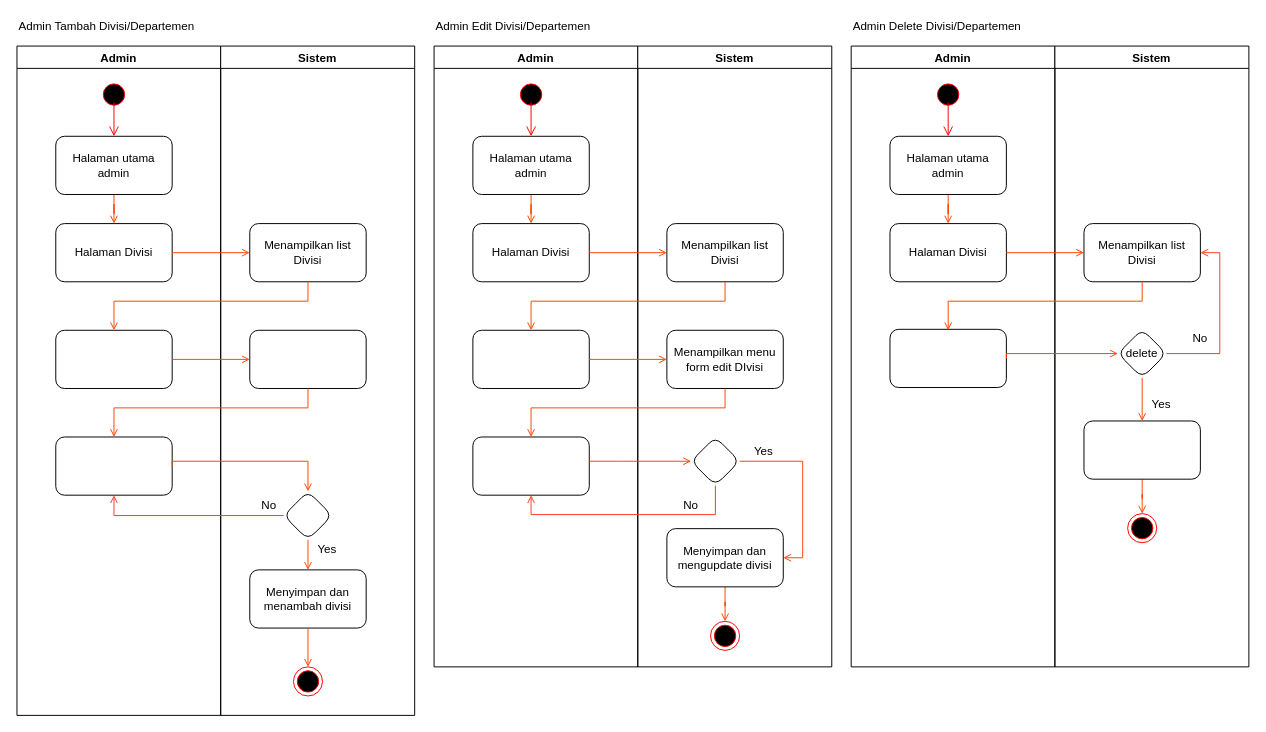
Image size: 1266x732. Some labels were removed from this diagram. Here are the shapes that lost their labels. From the top down, the centre of each, then its label:
At point (113, 358): "Tambah Divisi".
At point (307, 358): "Menampilkan menu form tambah DIvisi".
At point (530, 358): "Edit Divisi".
At point (947, 358): "Delete Divisi".
At point (113, 465): "Mengisi form tambah Divisi".
At point (530, 465): "Mengisi form edit Divisi".
At point (715, 460): "update".
At point (1141, 449): "menedelete divisi".
At point (307, 515): "save".
